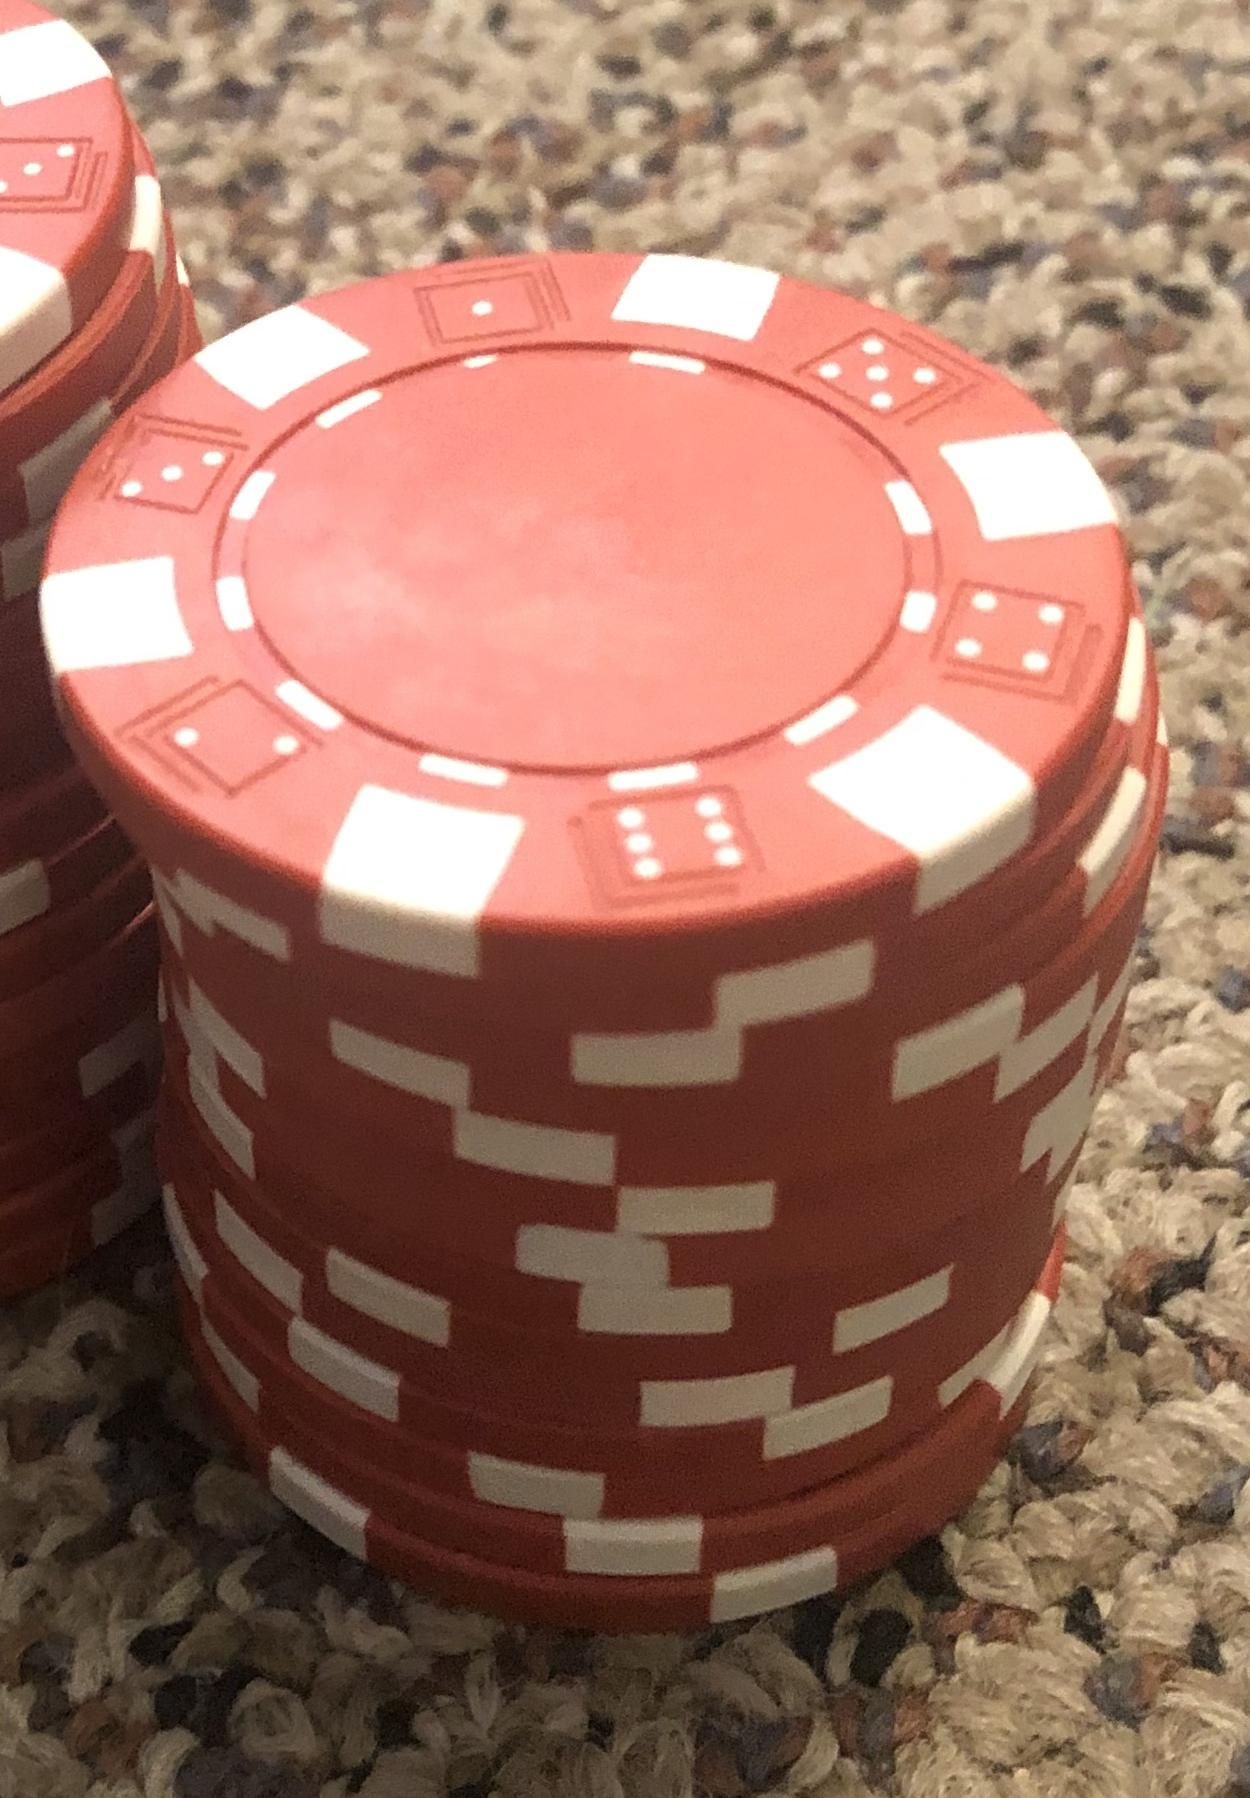Chip: (1, 1, 1250, 1798)
